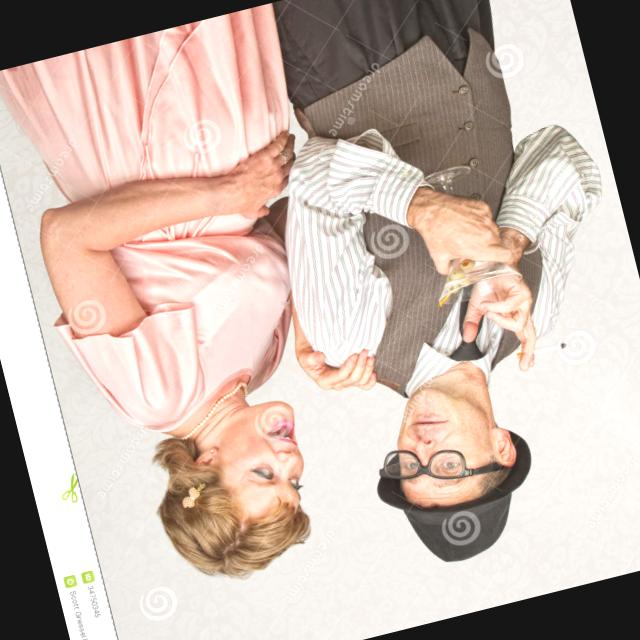smoke: (530, 338, 568, 360)
